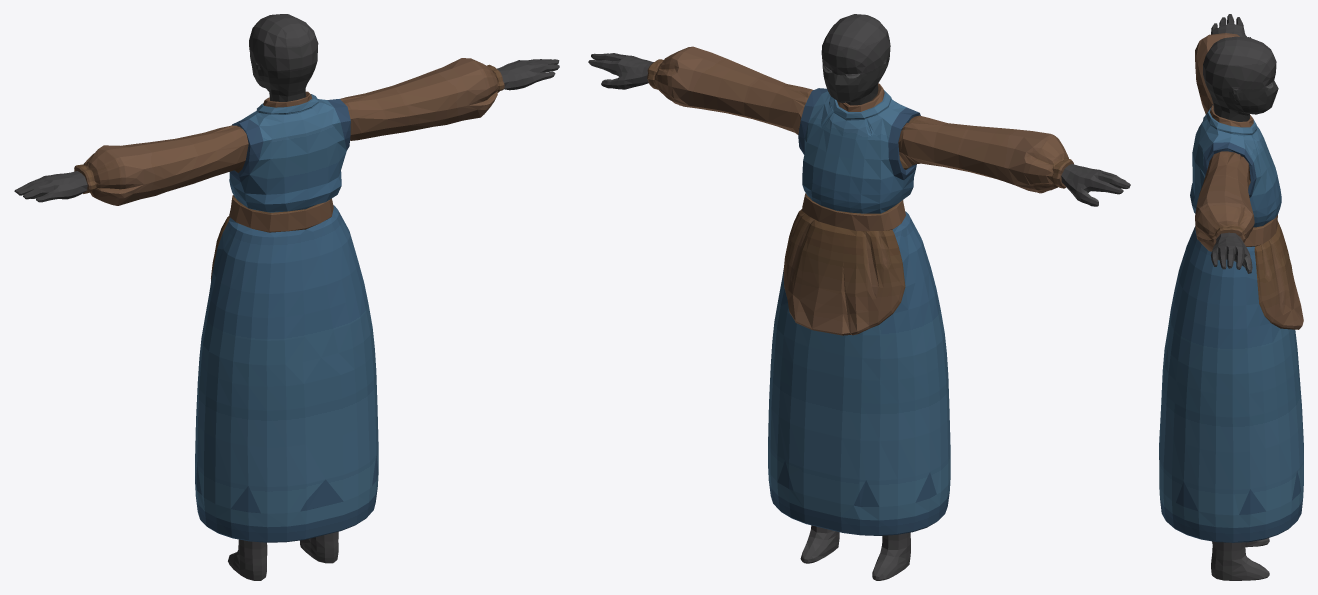
File: NPC_AP31WorkerDressBlue.glb
The picture shows the model from 3 angles, left to right: view 1: azimuth 30°, elevation 25°; view 2: azimuth 150°, elevation 25°; view 3: azimuth 270°, elevation 25°; orthographic projection. The views are drawn at different scales.
Parts seen in each view (by area): view 1: NPC_AP31WorkerDressBlue; view 2: NPC_AP31WorkerDressBlue; view 3: NPC_AP31WorkerDressBlue.
Boxes of the visible parts, x1,y1,x2,y2 form: NPC_AP31WorkerDressBlue: (14,14,559,580); NPC_AP31WorkerDressBlue: (588,14,1130,580); NPC_AP31WorkerDressBlue: (1159,14,1303,580).
Size of the model in its own units: 14.22 by 13.68 by 3.45.
1 material, 1 textured.
